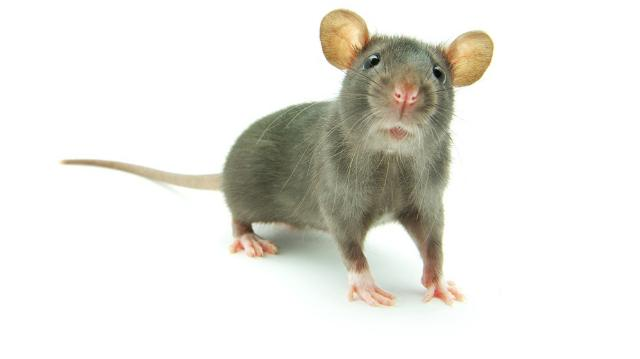rat: (194, 8, 506, 312)
